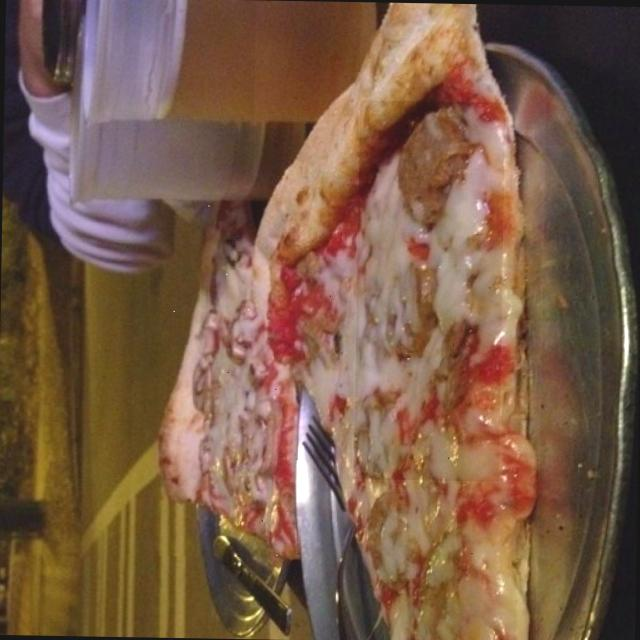cheese: (353, 99, 505, 480), (355, 489, 518, 640), (203, 268, 274, 519), (290, 243, 356, 458)
pizza: (251, 2, 539, 640), (158, 196, 299, 556)
